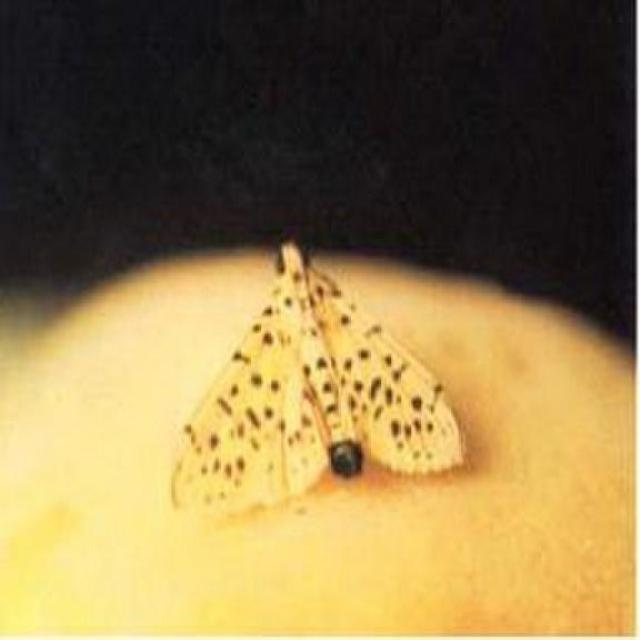peach borer: (166, 234, 472, 513)
